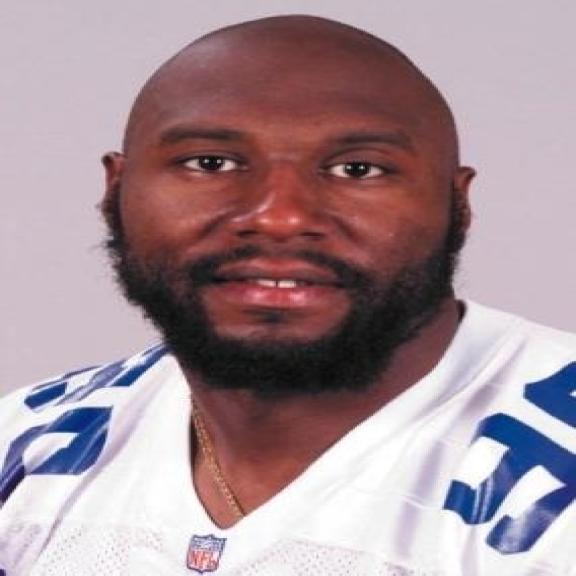face: (104, 14, 487, 385)
